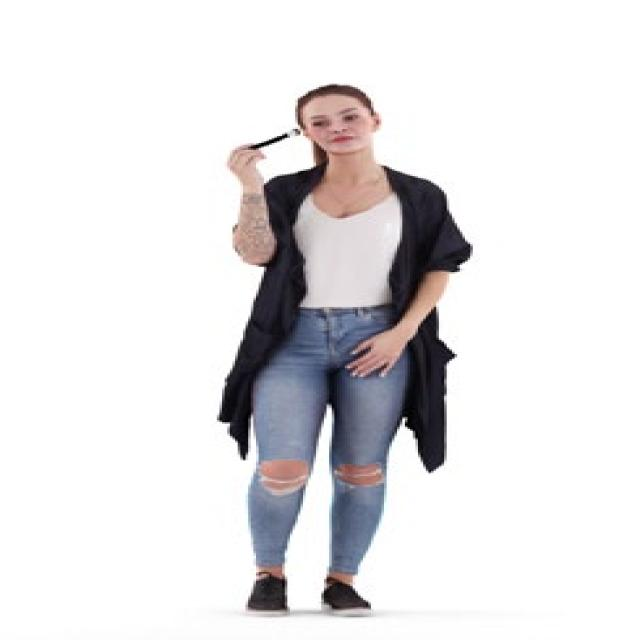standing: (200, 83, 479, 622)
